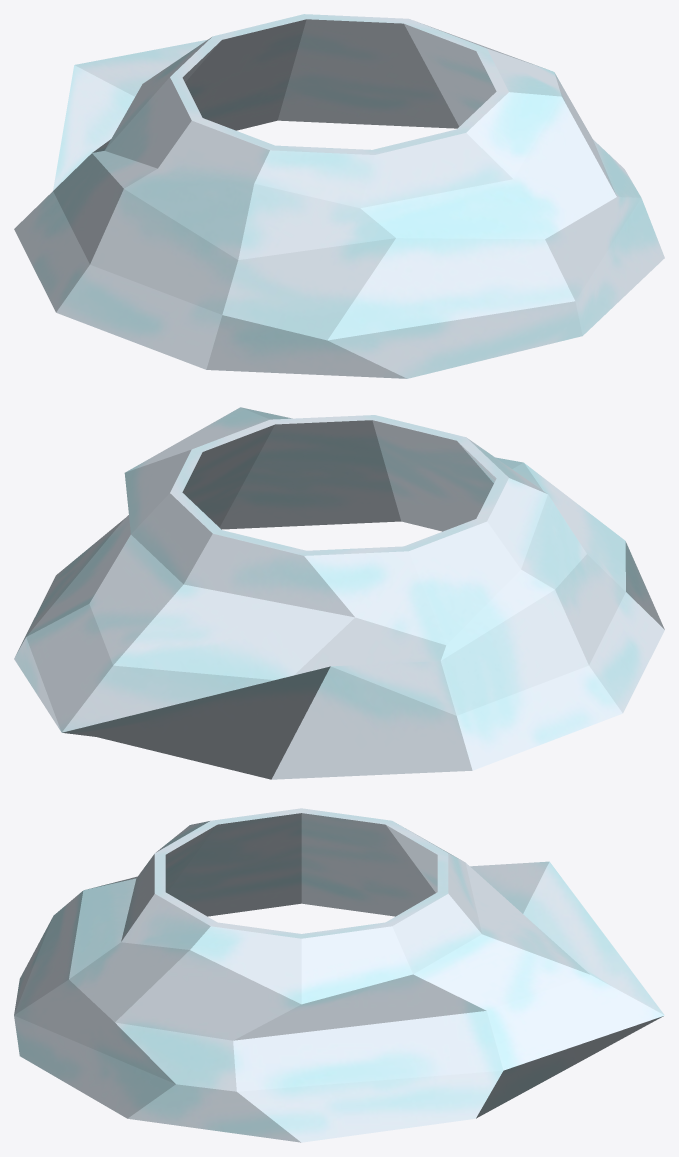
Rendered from Fort.fbx.
3 views of the same model, one above another, from view 1: azimuth 30°, elevation 25°; view 2: azimuth 150°, elevation 25°; view 3: azimuth 270°, elevation 25° (orthographic). The views are drawn at different scales.
Parts seen in each view (by area): view 1: pCylinder3; view 2: pCylinder3; view 3: pCylinder3.
Boxes of the visible parts, x1,y1,x2,y2 form: pCylinder3: (14, 14, 664, 378); pCylinder3: (14, 407, 664, 779); pCylinder3: (14, 808, 664, 1142).
Bounding box in the file's own units: 11.32 × 3.03 × 12.44.
